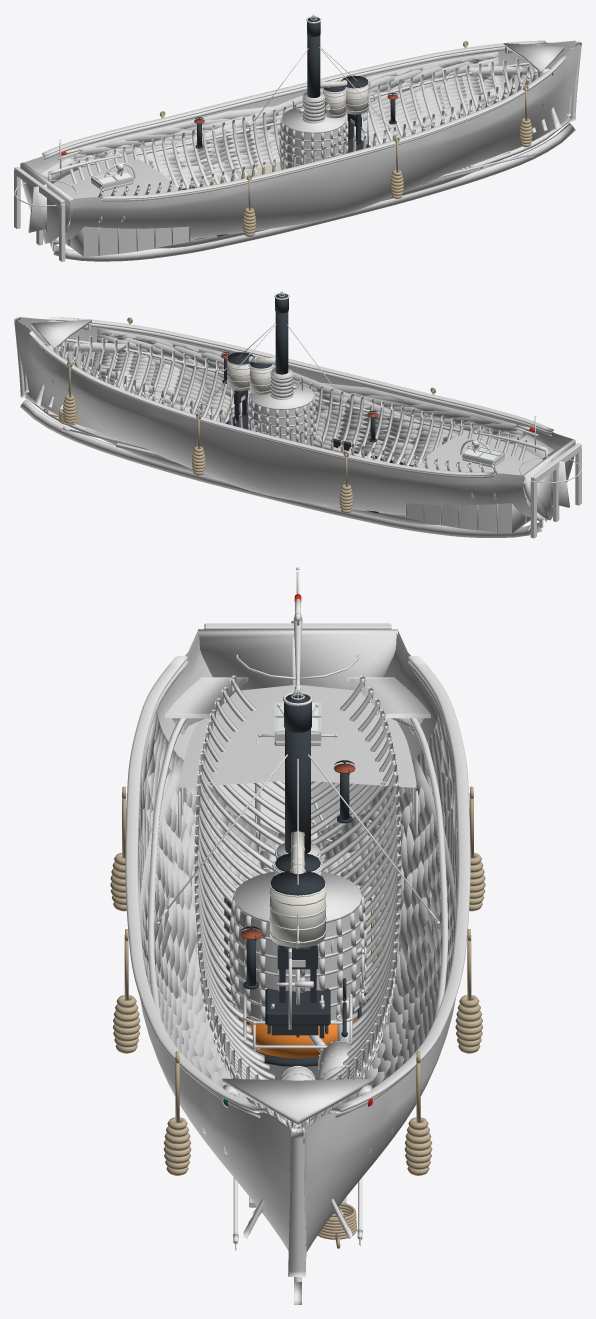
Rendered from steam_cutter_1888.fbx.
3 views of the same model, one above another, from view 1: azimuth 30°, elevation 25°; view 2: azimuth 150°, elevation 25°; view 3: azimuth 270°, elevation 25° (orthographic). The views are drawn at different scales.
Visible parts, largest first — view 1: Planking_DoubleDiagonal, Frames, Gunwale_Inwale_Rub, Fore_Cabin, Keel_Stem_Sternpost, Boiler, Transom, Engine, Funnel, Fenders, Rudder, Breasthook (+6 smaller); view 2: Planking_DoubleDiagonal, Frames, Gunwale_Inwale_Rub, Fore_Cabin, Keel_Stem_Sternpost, Transom, Boiler, Engine, Funnel, Fenders, Breasthook, Keelson (+5 smaller); view 3: Planking_DoubleDiagonal, Frames, Gunwale_Inwale_Rub, Fore_Cabin, Boiler, Transom, Engine, Fenders, Funnel, Breasthook, Stern_Sheets, Keel_Stem_Sternpost (+2 smaller).
Boxes of the visible parts, x1,y1,x2,y2 form: Planking_DoubleDiagonal: (23,40,580,240); Frames: (68,58,561,197); Gunwale_Inwale_Rub: (42,40,579,201); Fore_Cabin: (53,154,190,256); Keel_Stem_Sternpost: (53,41,581,261); Boiler: (279,106,348,169); Transom: (14,162,73,261); Engine: (321,75,370,152); Funnel: (248,14,390,130); Fenders: (159,41,532,236); Rudder: (28,154,122,247); Breasthook: (503,43,564,73); Planking_DoubleDiagonal: (15,317,572,517); Frames: (34,334,527,473); Gunwale_Inwale_Rub: (16,317,553,477); Fore_Cabin: (405,430,542,533); Keel_Stem_Sternpost: (14,317,542,537); Transom: (522,439,581,538); Boiler: (248,382,315,445); Engine: (225,352,273,429); Funnel: (205,291,346,407); Fenders: (63,317,435,513); Breasthook: (31,319,91,349); Keelson: (85,427,439,524); Planking_DoubleDiagonal: (138,631,457,1251); Frames: (194,675,401,1238); Gunwale_Inwale_Rub: (125,656,470,1132); Fore_Cabin: (178,685,417,836); Boiler: (229,871,366,1066); Transom: (198,623,397,690); Engine: (265,853,333,1038); Fenders: (110,786,485,1175); Funnel: (156,687,439,948); Breasthook: (222,1078,373,1124); Stern_Sheets: (165,677,430,718); Keel_Stem_Sternpost: (288,1128,306,1304).
Size of the model in its own units: 834 by 299 by 241.
